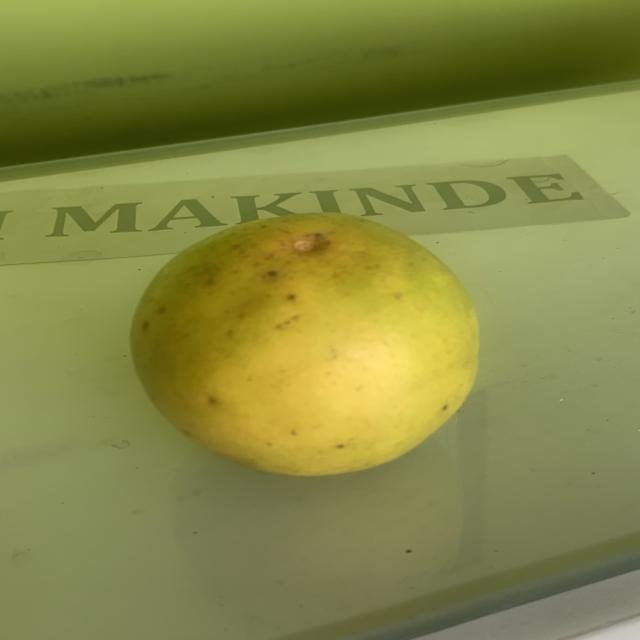agrume: (125, 208, 493, 484)
